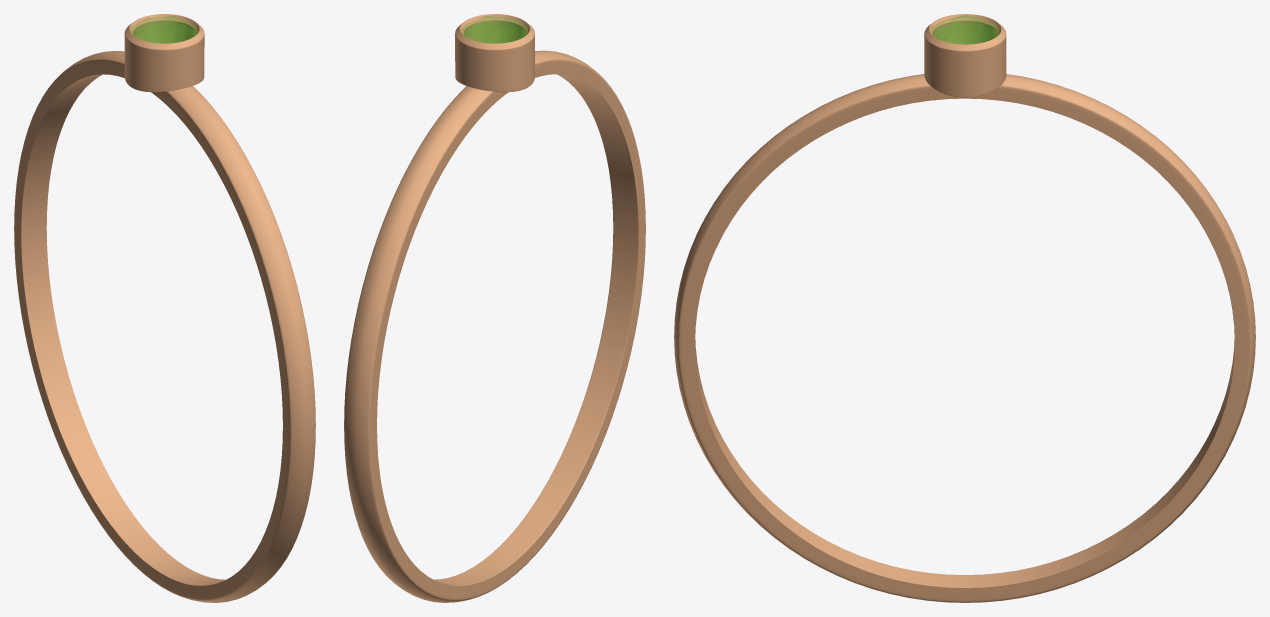
The model's file is ring1.glb.
3 views of the same model, side by side, from view 1: azimuth 30°, elevation 25°; view 2: azimuth 150°, elevation 25°; view 3: azimuth 270°, elevation 25° (orthographic). The views are drawn at different scales.
Parts seen in each view (by area): view 1: Circle, Circle.002, dobj; view 2: Circle, Circle.002, dobj; view 3: Circle, Circle.002, dobj.
Part boxes in pixels (bbox=[...]): Circle: bbox=[14, 51, 315, 602]; Circle.002: bbox=[124, 14, 204, 92]; dobj: bbox=[131, 16, 197, 43]; Circle: bbox=[344, 50, 645, 602]; Circle.002: bbox=[455, 14, 534, 92]; dobj: bbox=[462, 16, 527, 43]; Circle: bbox=[674, 74, 1255, 602]; Circle.002: bbox=[924, 14, 1006, 97]; dobj: bbox=[931, 15, 998, 44].
Bounding box in the file's own units: 0.0864 × 0.6681 × 0.6112.
